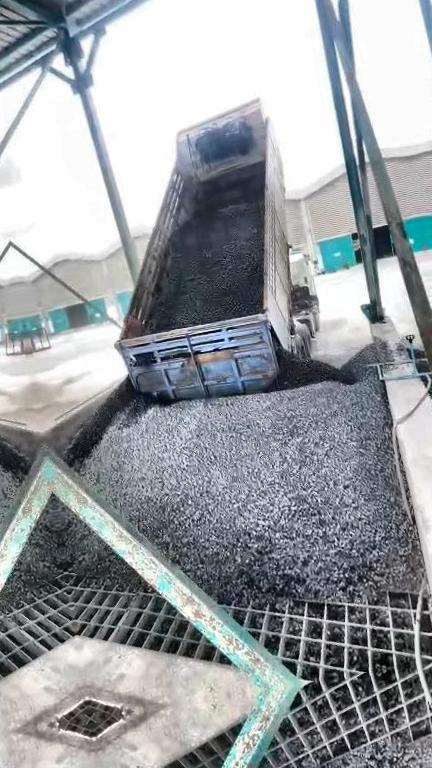gravel: (65, 335, 432, 603), (150, 167, 264, 330), (55, 499, 131, 584)
sand: (34, 371, 94, 429)
